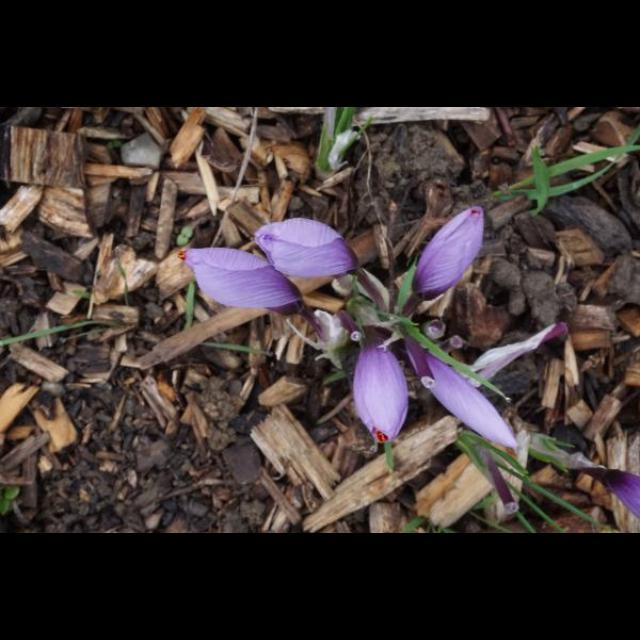flower: (409, 351, 519, 459), (176, 249, 308, 317), (410, 208, 484, 302), (255, 218, 363, 276), (353, 342, 409, 444)
